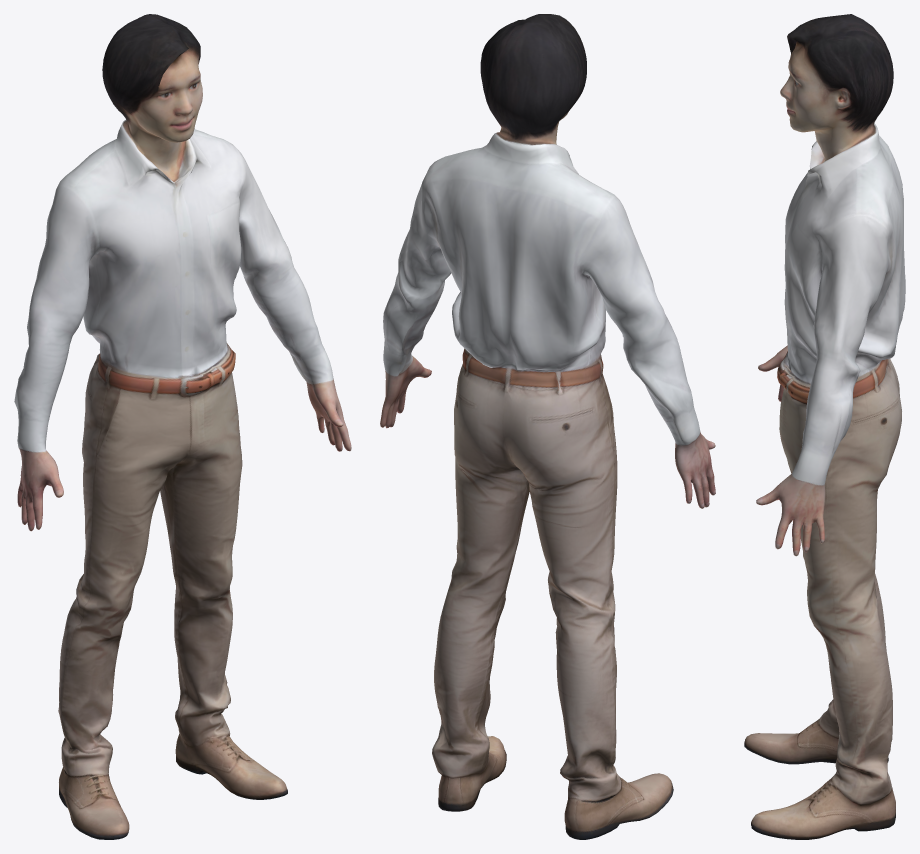
The model's file is 068_Syun_no-rig-free.fbx.
3 renders of one model, left to right at view 1: azimuth 30°, elevation 25°; view 2: azimuth 150°, elevation 25°; view 3: azimuth 270°, elevation 25°, orthographic.
Visible parts, largest first — view 1: 068_Syun; view 2: 068_Syun; view 3: 068_Syun.
Part boxes in pixels (left/top/right/bottom): 068_Syun: left=14, top=14, right=351, bottom=839; 068_Syun: left=380, top=14, right=715, bottom=839; 068_Syun: left=744, top=14, right=905, bottom=839.
Bounding box in the file's own units: 76.21 × 178 × 33.73.
1 material, 1 textured.
